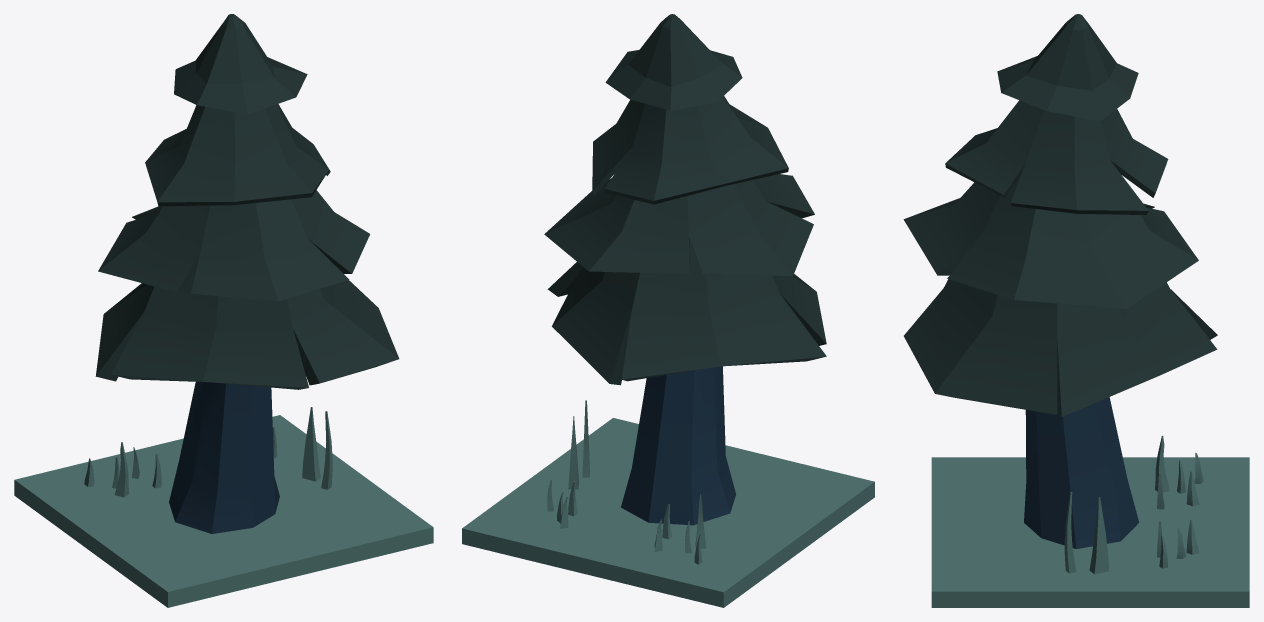
File: ASSET_ENV_arbre.fbx
The picture shows the model from 3 angles, left to right: view 1: azimuth 30°, elevation 25°; view 2: azimuth 150°, elevation 25°; view 3: azimuth 270°, elevation 25°; orthographic projection. The views are drawn at different scales.
Visible parts, largest first — view 1: SAPIN; view 2: SAPIN; view 3: SAPIN.
Part boxes in pixels (left/top/right/bottom): SAPIN: left=14, top=14, right=433, bottom=607; SAPIN: left=462, top=14, right=874, bottom=607; SAPIN: left=903, top=14, right=1249, bottom=607.
Size of the model in its own units: 2.12 by 3.63 by 2.17.
